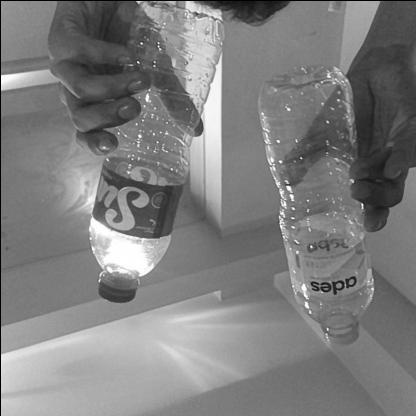plastic_bottles: (88, 0, 224, 303), (256, 63, 374, 347)
